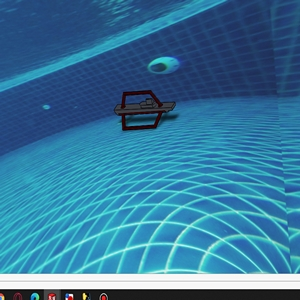submarine: (118, 91, 177, 130)
